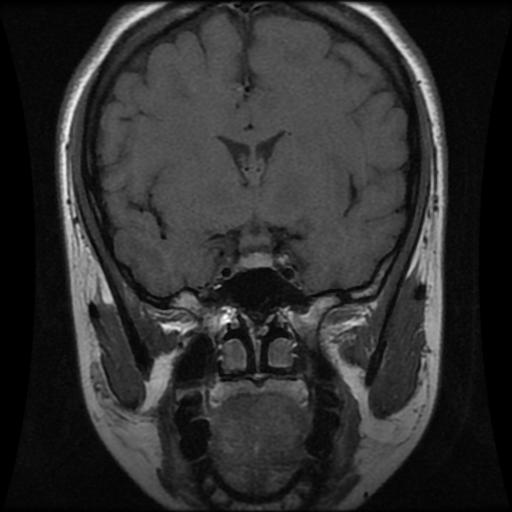Pituirity_tumour: (240, 249, 275, 268)
